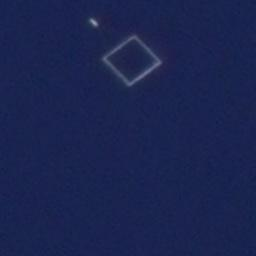square_solid: (96, 31, 169, 91)
